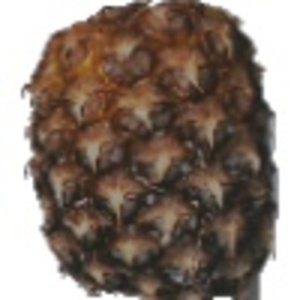abacaxi: (17, 1, 285, 298)
